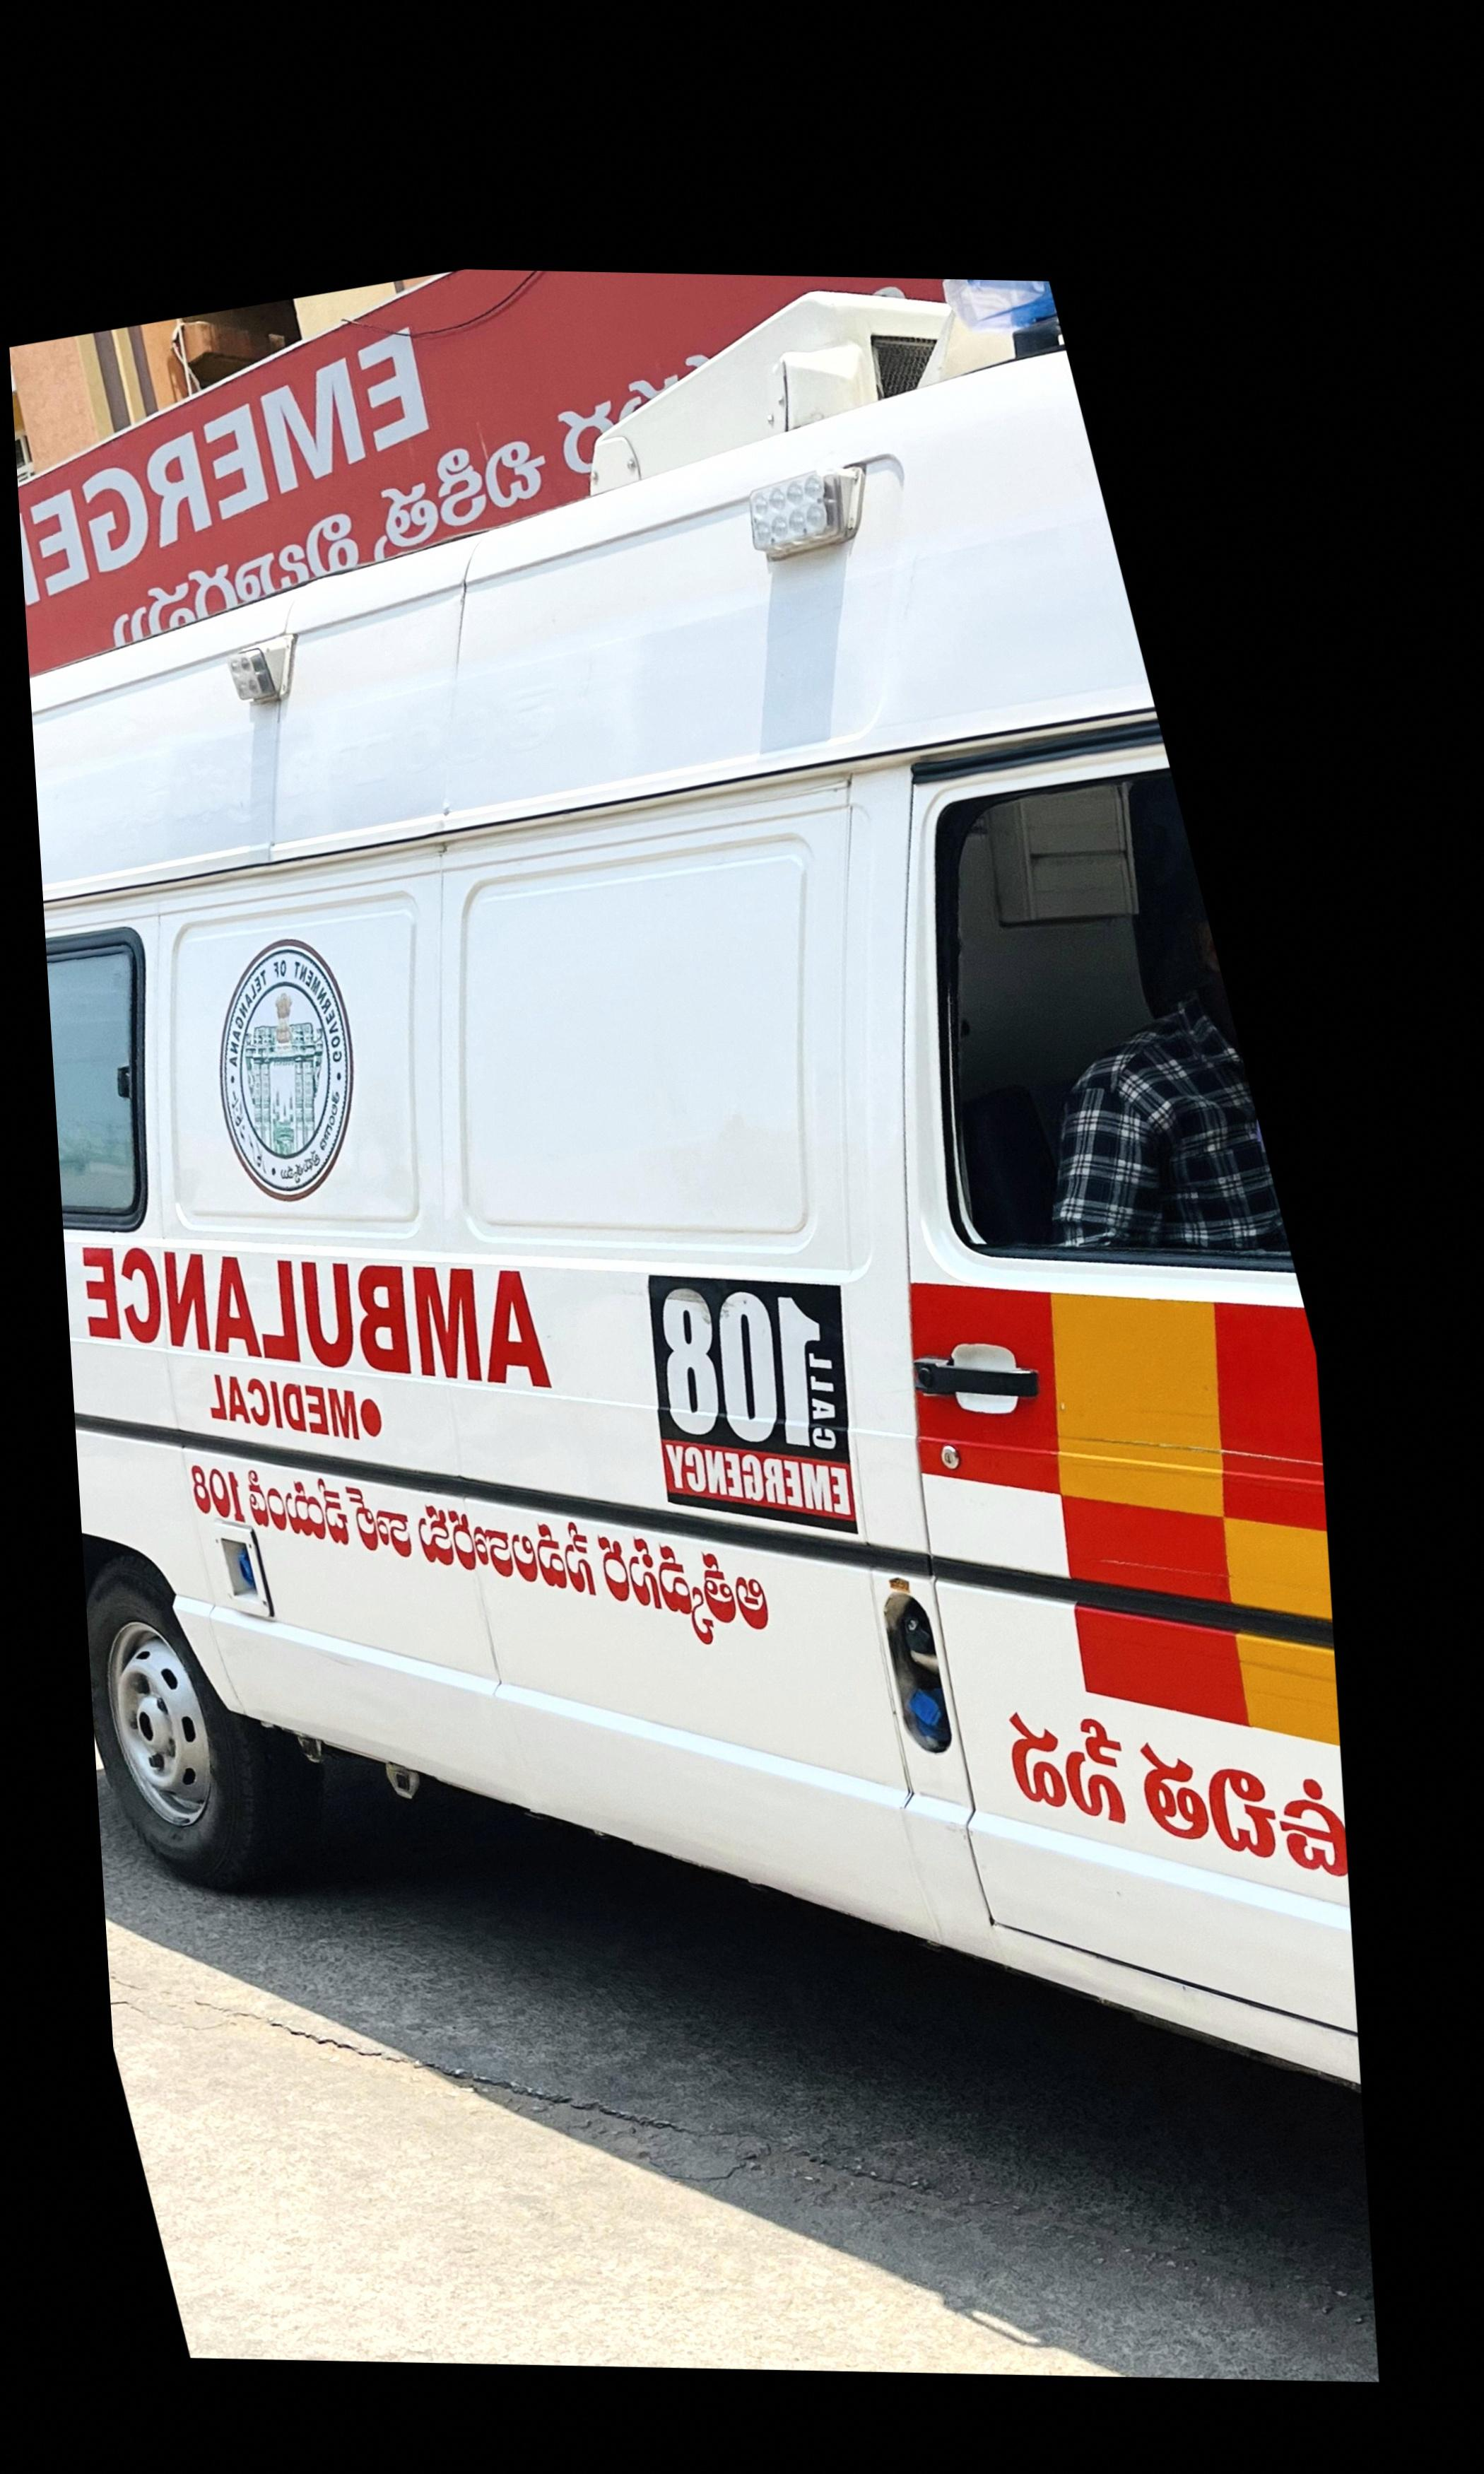ambulance: (18, 272, 1357, 2080), (35, 348, 1357, 2080)
